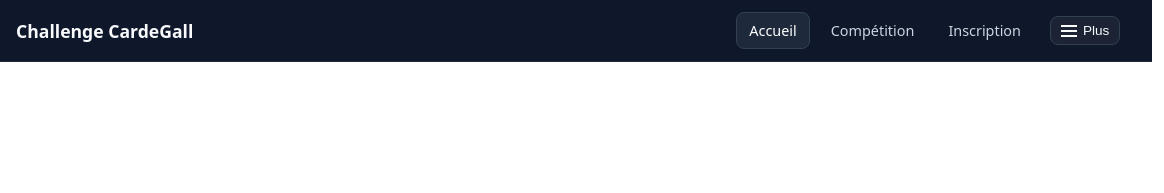
Test: TopBar › toggles a navigation menu from the "Plus" button
The image size is (1164, 193).
Click the button with aria-label "Plus d'options de navigation".
click(1085, 30)  # box 1050,16 -> 1120,45
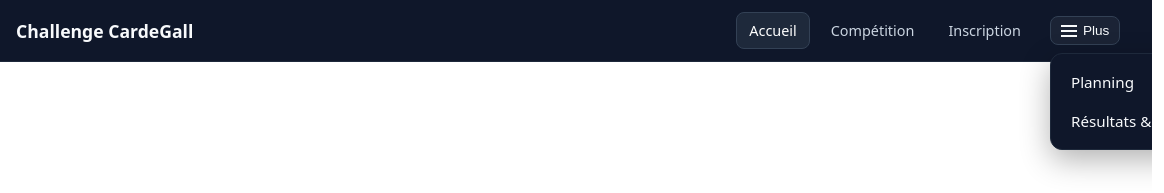
Click the button with aria-label "Plus d'options de navigation".
click(1085, 30)  # box 1050,16 -> 1120,45
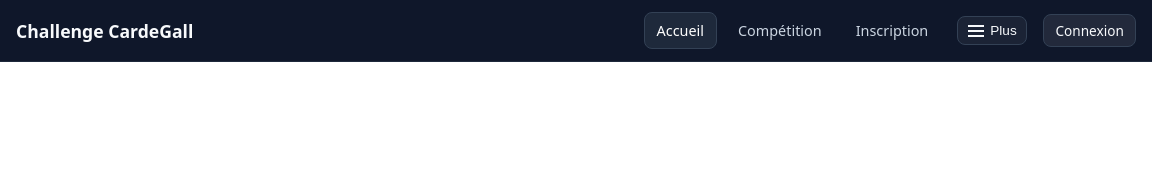
Result: the menu is gone
